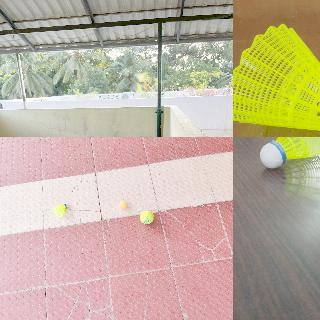shuttlecock: (233, 23, 319, 136), (259, 137, 319, 168), (52, 202, 68, 216)
